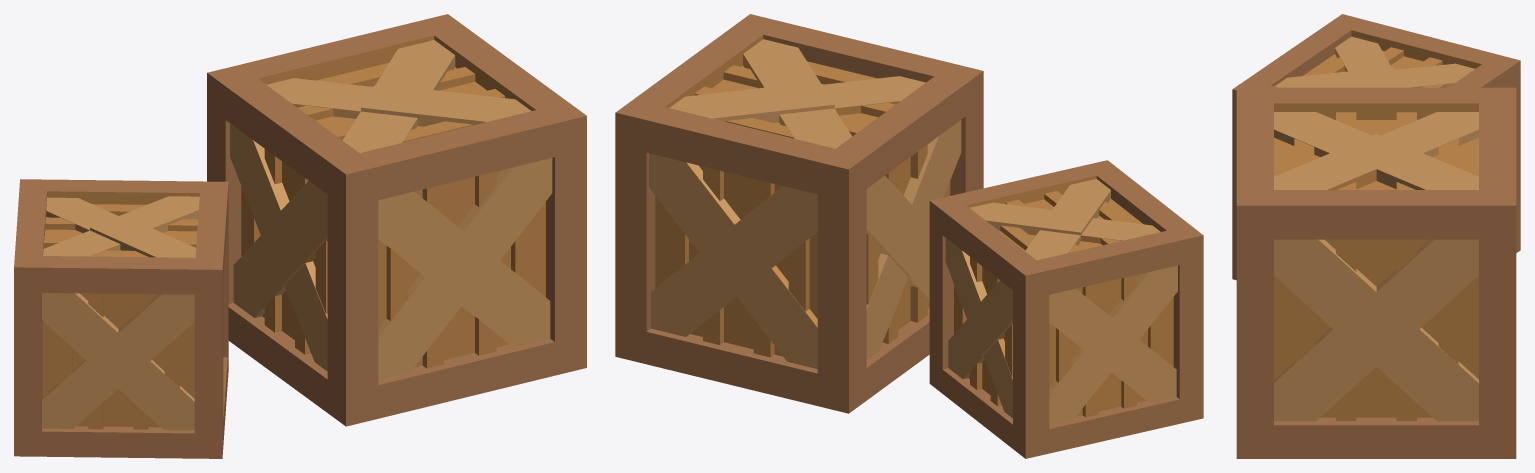
File: Crate Set.glb
3 views of the same model, side by side, from view 1: azimuth 30°, elevation 25°; view 2: azimuth 150°, elevation 25°; view 3: azimuth 270°, elevation 25° (orthographic). The views are drawn at different scales.
Visible parts, largest first — view 1: Crate, Crate_small; view 2: Crate, Crate_small; view 3: Crate, Crate_small.
Part boxes in pixels (<box>): Crate: <box>207,14,586,426</box>; Crate_small: <box>14,179,228,458</box>; Crate: <box>615,14,983,413</box>; Crate_small: <box>929,160,1203,458</box>; Crate: <box>1236,87,1516,458</box>; Crate_small: <box>1232,14,1520,280</box>.
Bounding box in the file's own units: 2.16 × 1 × 1.03.
Materials: 1 (1 with a texture image).
